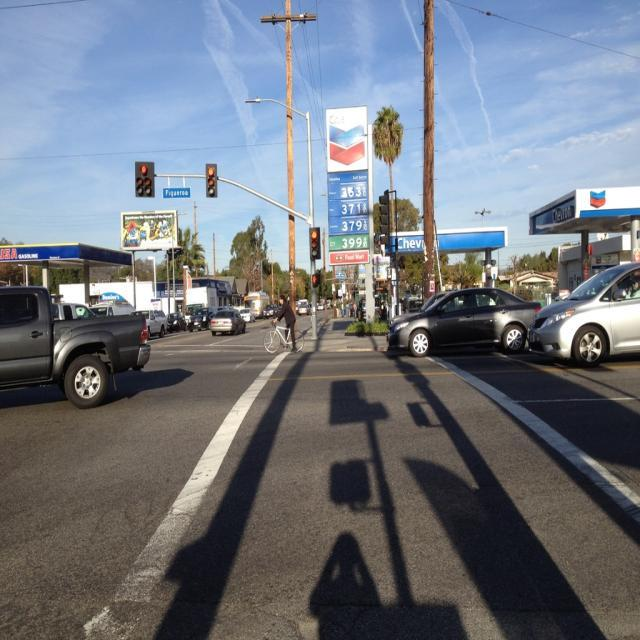off traffic light: (378, 188, 390, 249)
traffic light: (135, 161, 155, 198), (309, 227, 322, 260), (206, 165, 218, 200)
